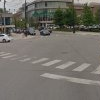crosswalk: (0, 51, 100, 74)
